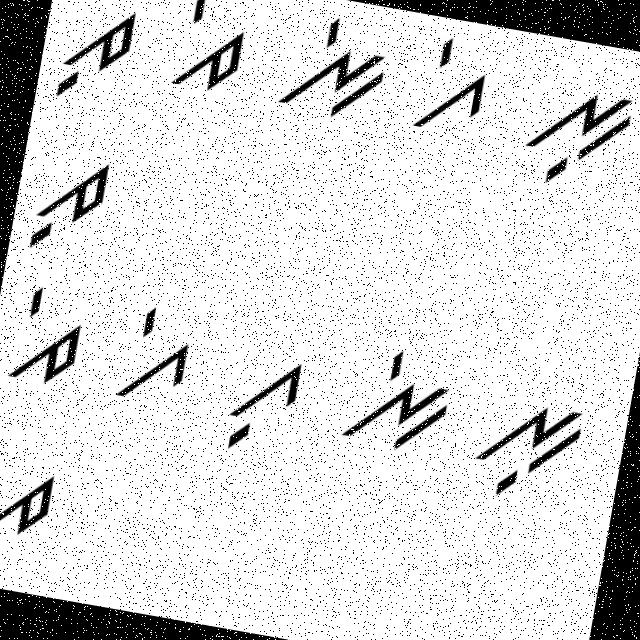ge: (102, 293, 201, 416), (209, 342, 305, 462), (406, 32, 496, 146)
nge: (320, 332, 464, 462), (274, 8, 396, 128)
ngu: (514, 73, 639, 200), (470, 387, 590, 506)
te: (3, 276, 94, 390), (168, 0, 255, 100)
tu: (26, 143, 118, 260), (50, 0, 143, 111), (0, 457, 63, 581)
